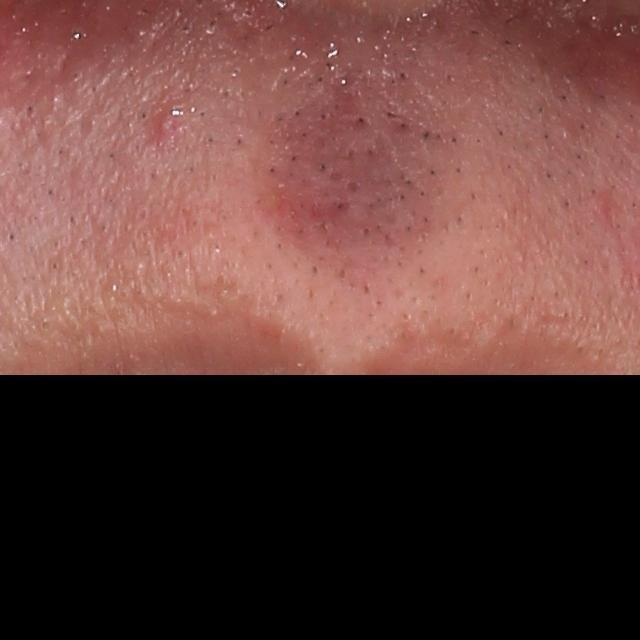papule: (144, 95, 188, 142)
